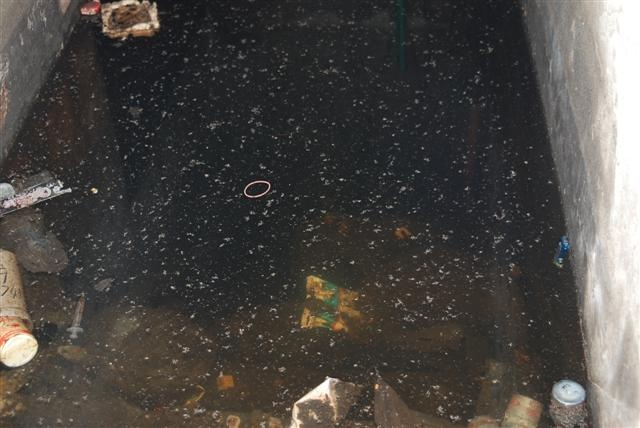bottle: (1, 249, 36, 327)
